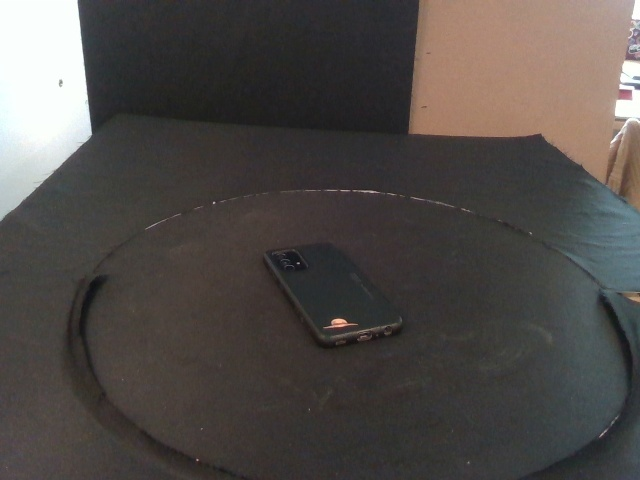phone: (262, 240, 404, 350)
